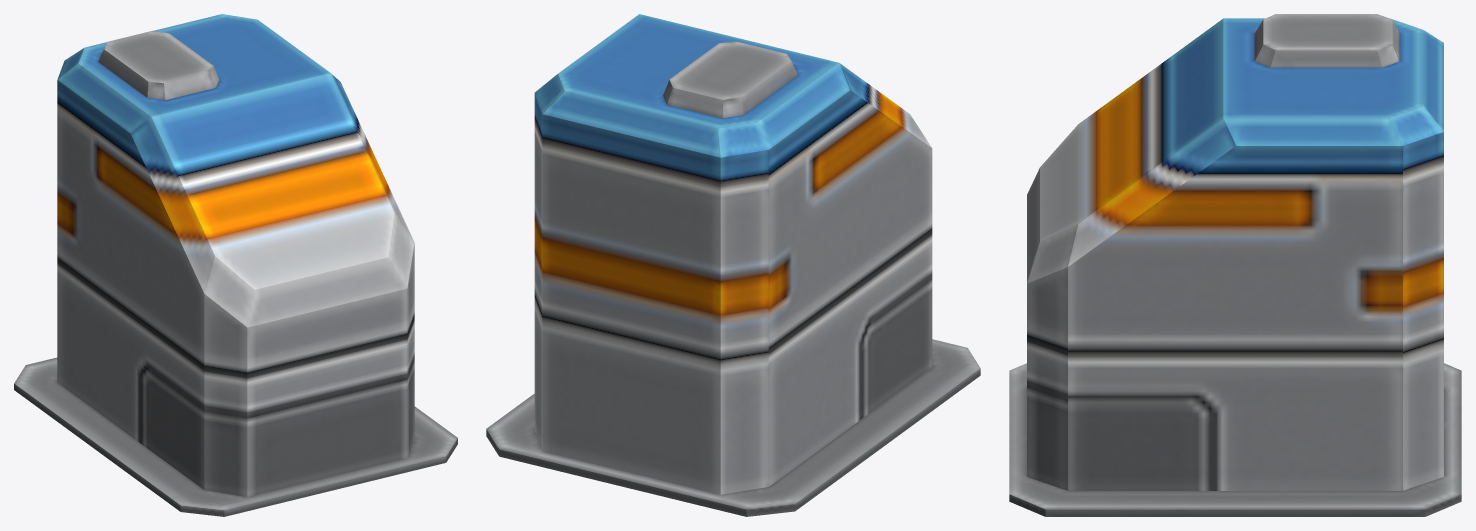
File: allies_house_3.FBX
3 renders of one model, left to right at view 1: azimuth 30°, elevation 25°; view 2: azimuth 150°, elevation 25°; view 3: azimuth 270°, elevation 25°, orthographic. The views are drawn at different scales.
Visible parts, largest first — view 1: allies_house_3; view 2: allies_house_3; view 3: allies_house_3.
Boxes of the visible parts, <box> form: allies_house_3: <box>14,14,457,516</box>; allies_house_3: <box>486,14,980,516</box>; allies_house_3: <box>1009,14,1461,516</box>.
Size of the model in its own units: 819 by 958 by 1016.
